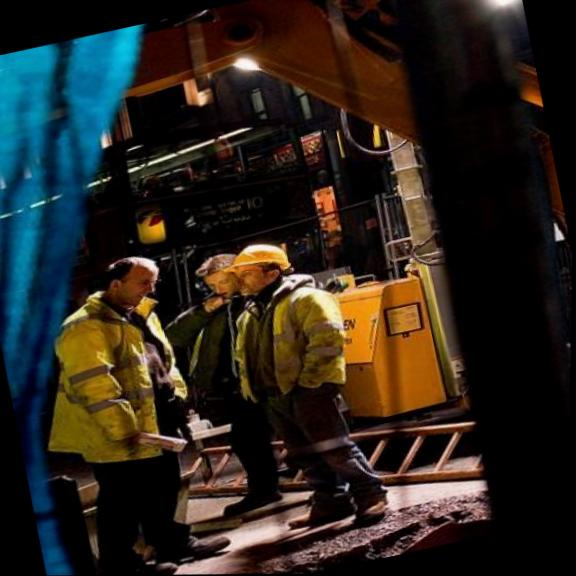safety_vest: (14, 277, 197, 475), (212, 261, 356, 409)
